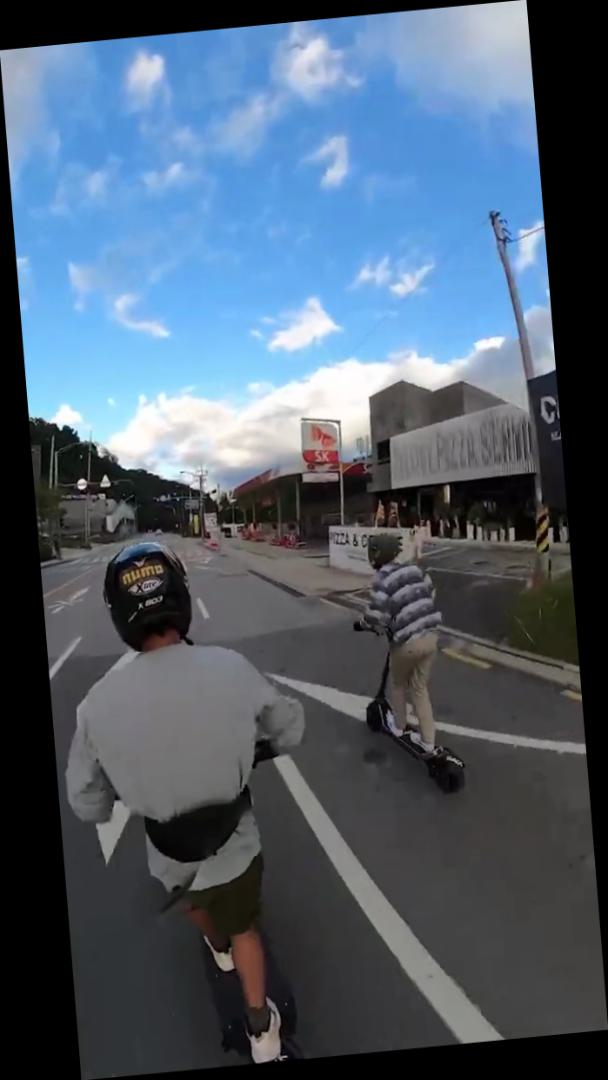helmet: (46, 527, 336, 1080), (346, 524, 470, 806)
